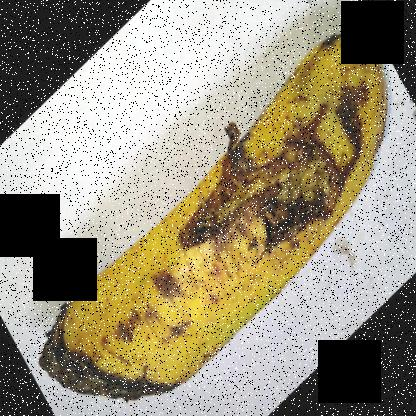rotten: (176, 79, 390, 284), (20, 276, 206, 415)
